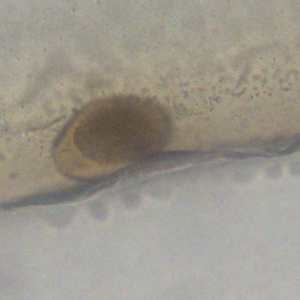Fasciola_hepatica_egg: (50, 92, 174, 183)
